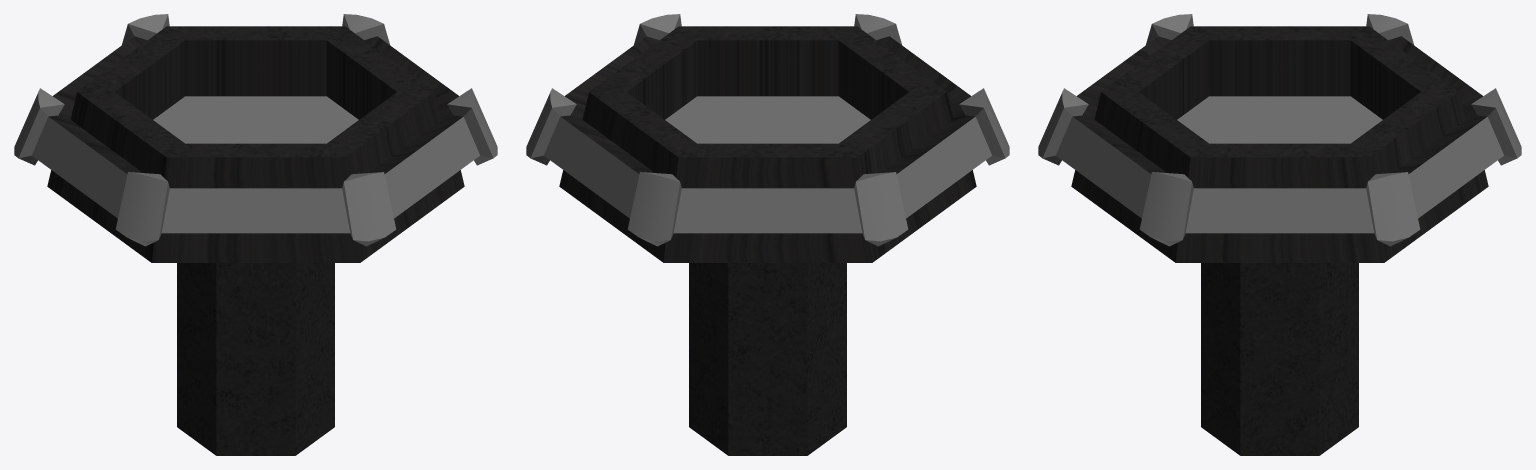
Rendered from Wheel.fbx.
The picture shows the model from 3 angles, left to right: view 1: azimuth 30°, elevation 25°; view 2: azimuth 150°, elevation 25°; view 3: azimuth 270°, elevation 25°; orthographic projection.
Parts seen in each view (by area): view 1: ElectrycityWheel; view 2: ElectrycityWheel; view 3: ElectrycityWheel.
Boxes of the visible parts, x1=… form: ElectrycityWheel: x1=14, y1=14, x2=497, y2=455; ElectrycityWheel: x1=526, y1=14, x2=1009, y2=455; ElectrycityWheel: x1=1038, y1=14, x2=1521, y2=455.
Size of the model in its own units: 291 by 246 by 322.
